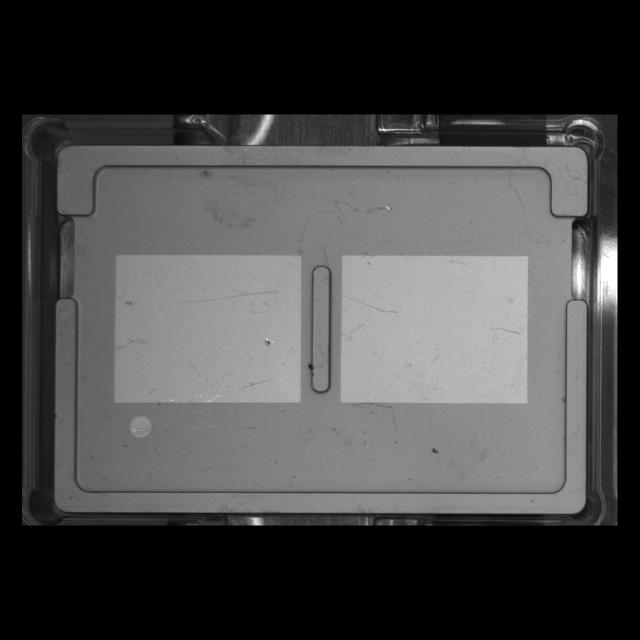door: (44, 138, 596, 225)
point: (122, 410, 158, 445)
